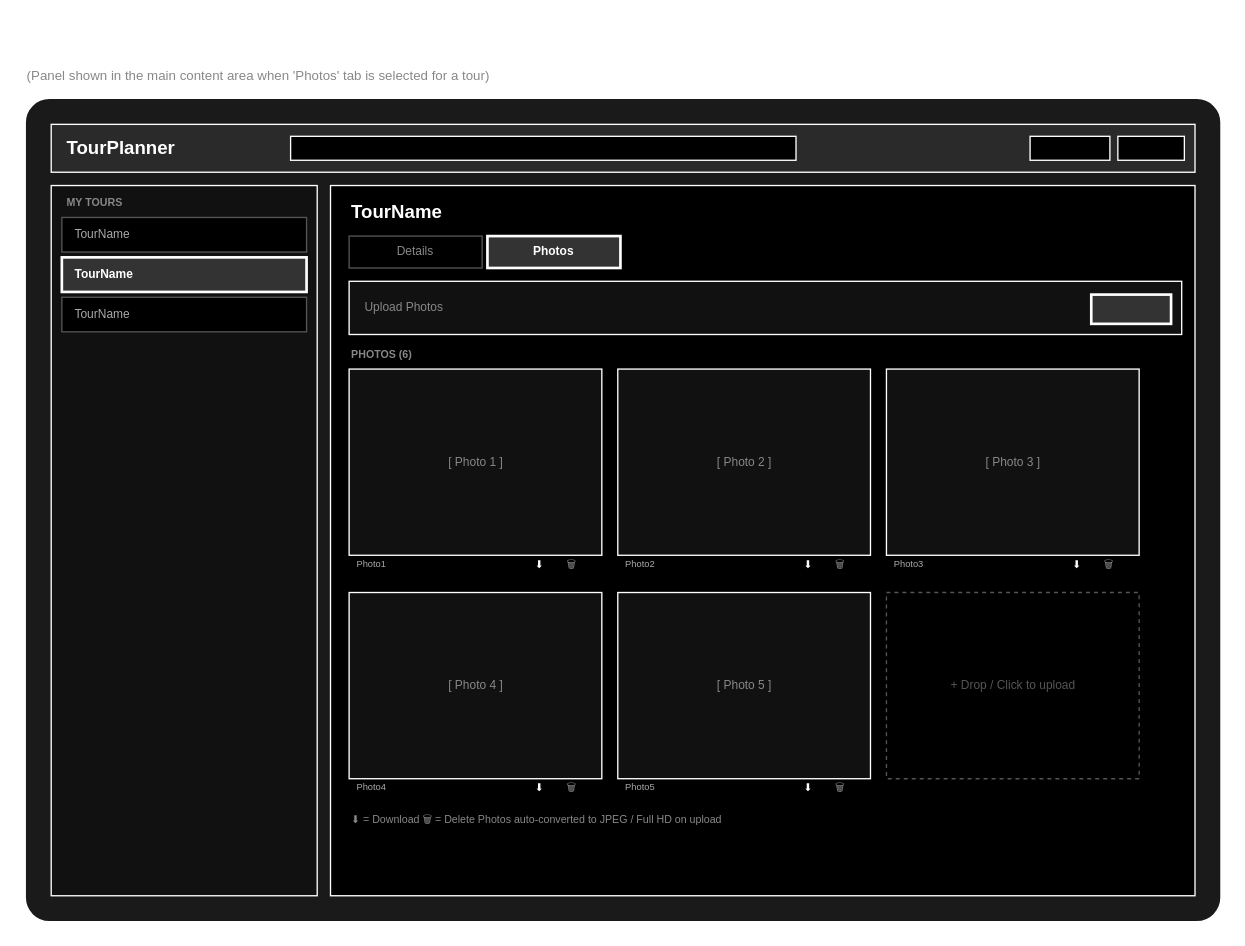
The diagram is 1245 pixels wide and 946 high, and some of its shapes have lost their labels. The shapes that lost their labels are listed below. From the top down, each one's centre as x and y in pixels, then its label:
(542,147): SearchBar
(1069,147): 👤 User
(1150,147): Logout
(1130,309): + Upload
